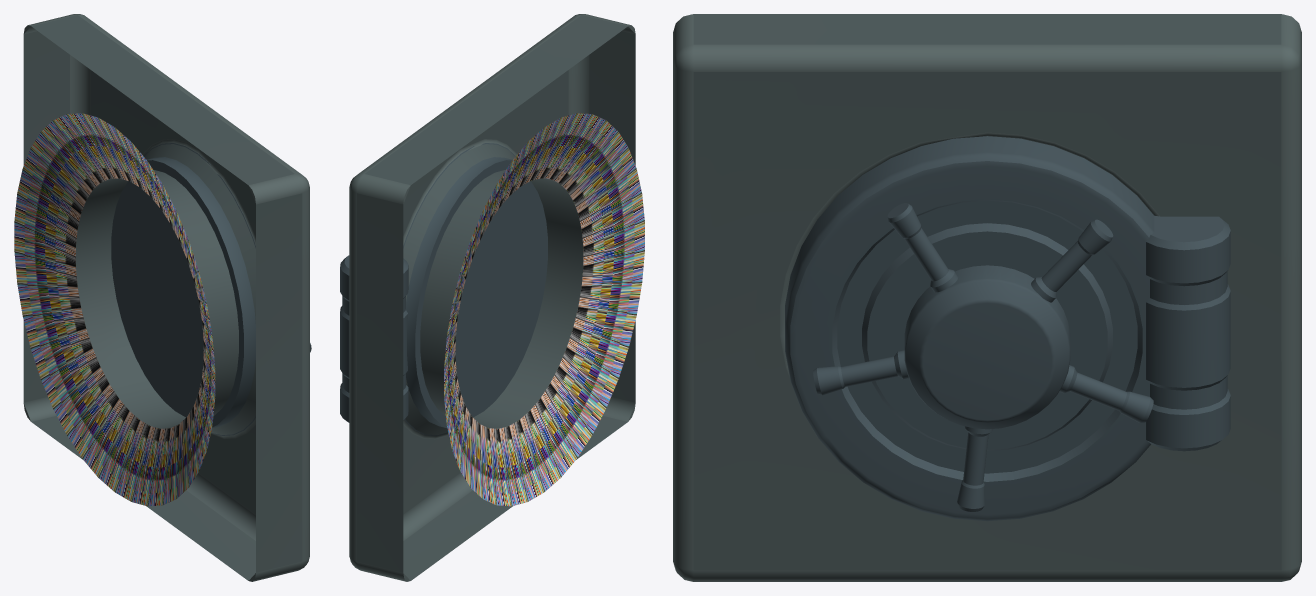
3 views of the same model, side by side, from view 1: azimuth 30°, elevation 25°; view 2: azimuth 150°, elevation 25°; view 3: azimuth 270°, elevation 25° (orthographic). The views are drawn at different scales.
Visible parts, largest first — view 1: polySurface9, pCylinder77; view 2: polySurface9, pCylinder77; view 3: polySurface9, pCylinder77, duplicated_35.
Part boxes in pixels (box(x1,y1,x2,y2)): polySurface9: box(14, 14, 309, 581); pCylinder77: box(111, 143, 255, 435); polySurface9: box(349, 14, 644, 581); pCylinder77: box(340, 143, 547, 435); polySurface9: box(673, 14, 1301, 581); pCylinder77: box(785, 136, 1230, 521); duplicated_35: box(813, 203, 1153, 511).
Bounding box in the file's own units: 321 × 886 × 832.
Materials: 1 (1 with a texture image).
